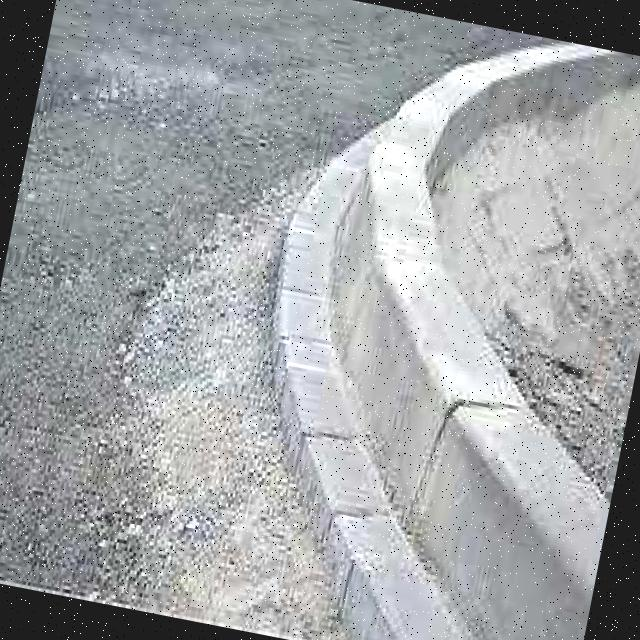curb: (269, 366, 626, 640), (254, 98, 494, 441)
